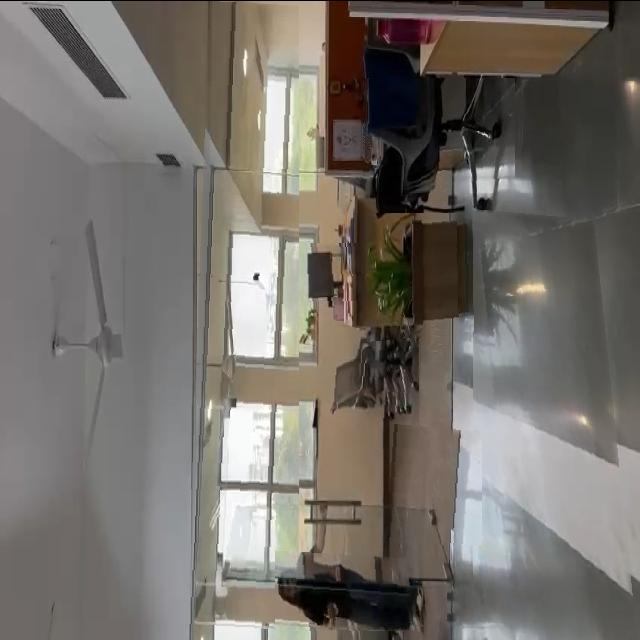floor: (473, 204, 639, 640), (386, 423, 482, 544)
furniture: (363, 76, 515, 190), (366, 212, 474, 341), (322, 325, 419, 421), (299, 242, 361, 314)
moving_object: (276, 549, 416, 630)
wall: (186, 0, 299, 637)
